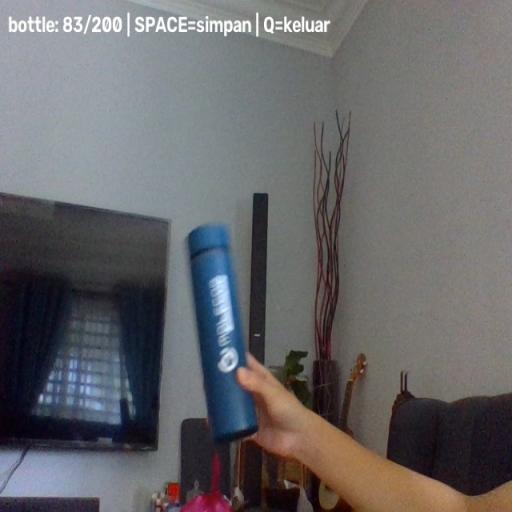Bottle: (186, 224, 260, 445)
